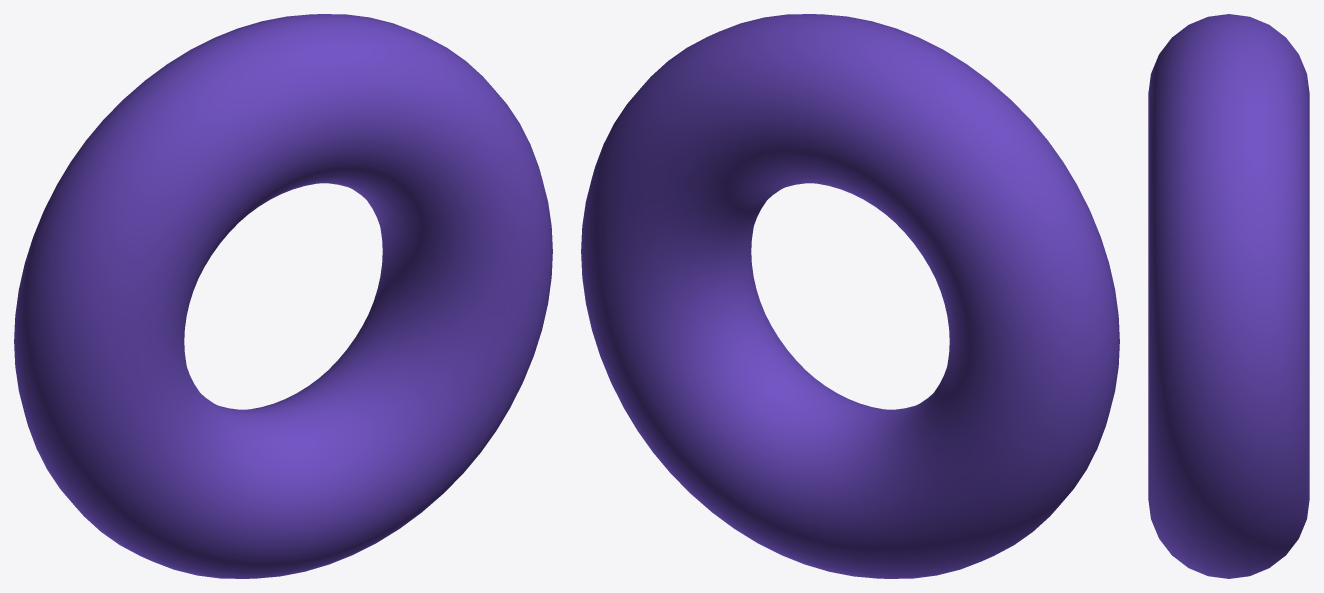
File: sample.dae
3 views of the same model, side by side, from view 1: azimuth 30°, elevation 25°; view 2: azimuth 150°, elevation 25°; view 3: azimuth 270°, elevation 25° (orthographic). The views are drawn at different scales.
Parts seen in each view (by area): view 1: torus; view 2: torus; view 3: torus.
Part boxes in pixels (x1,y1,x2,y2): torus: (14,14,552,578); torus: (581,14,1119,578); torus: (1148,14,1309,578).
Bounding box in the file's own units: 2.8 × 2.8 × 0.8.
